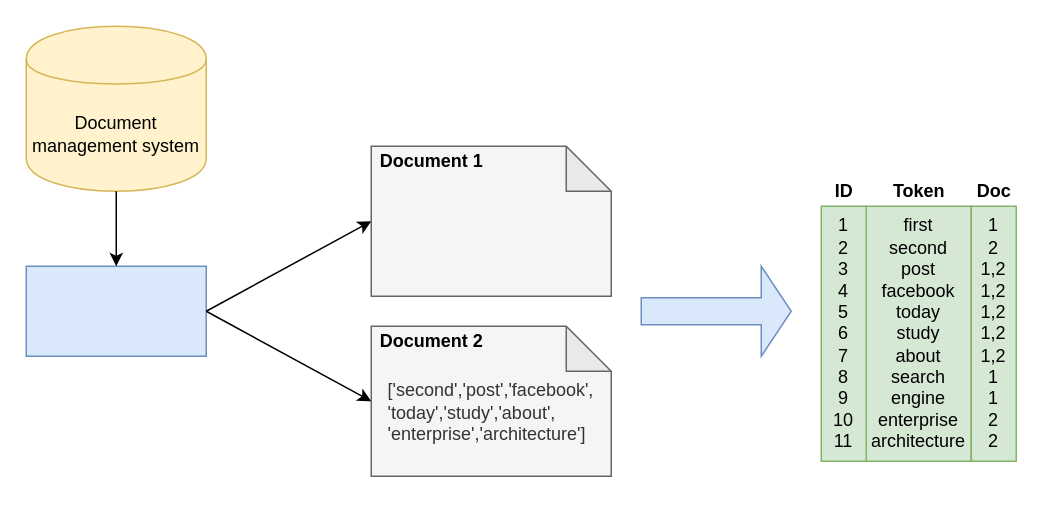
Image size: 1050x513. Some labels were removed from this diagram. Each missing label, with the box of its shape:
['first','post', 'facebook', 'today','study', 'about','search','engine']: (370, 145, 611, 296)
Processed documents: (25, 265, 206, 356)
